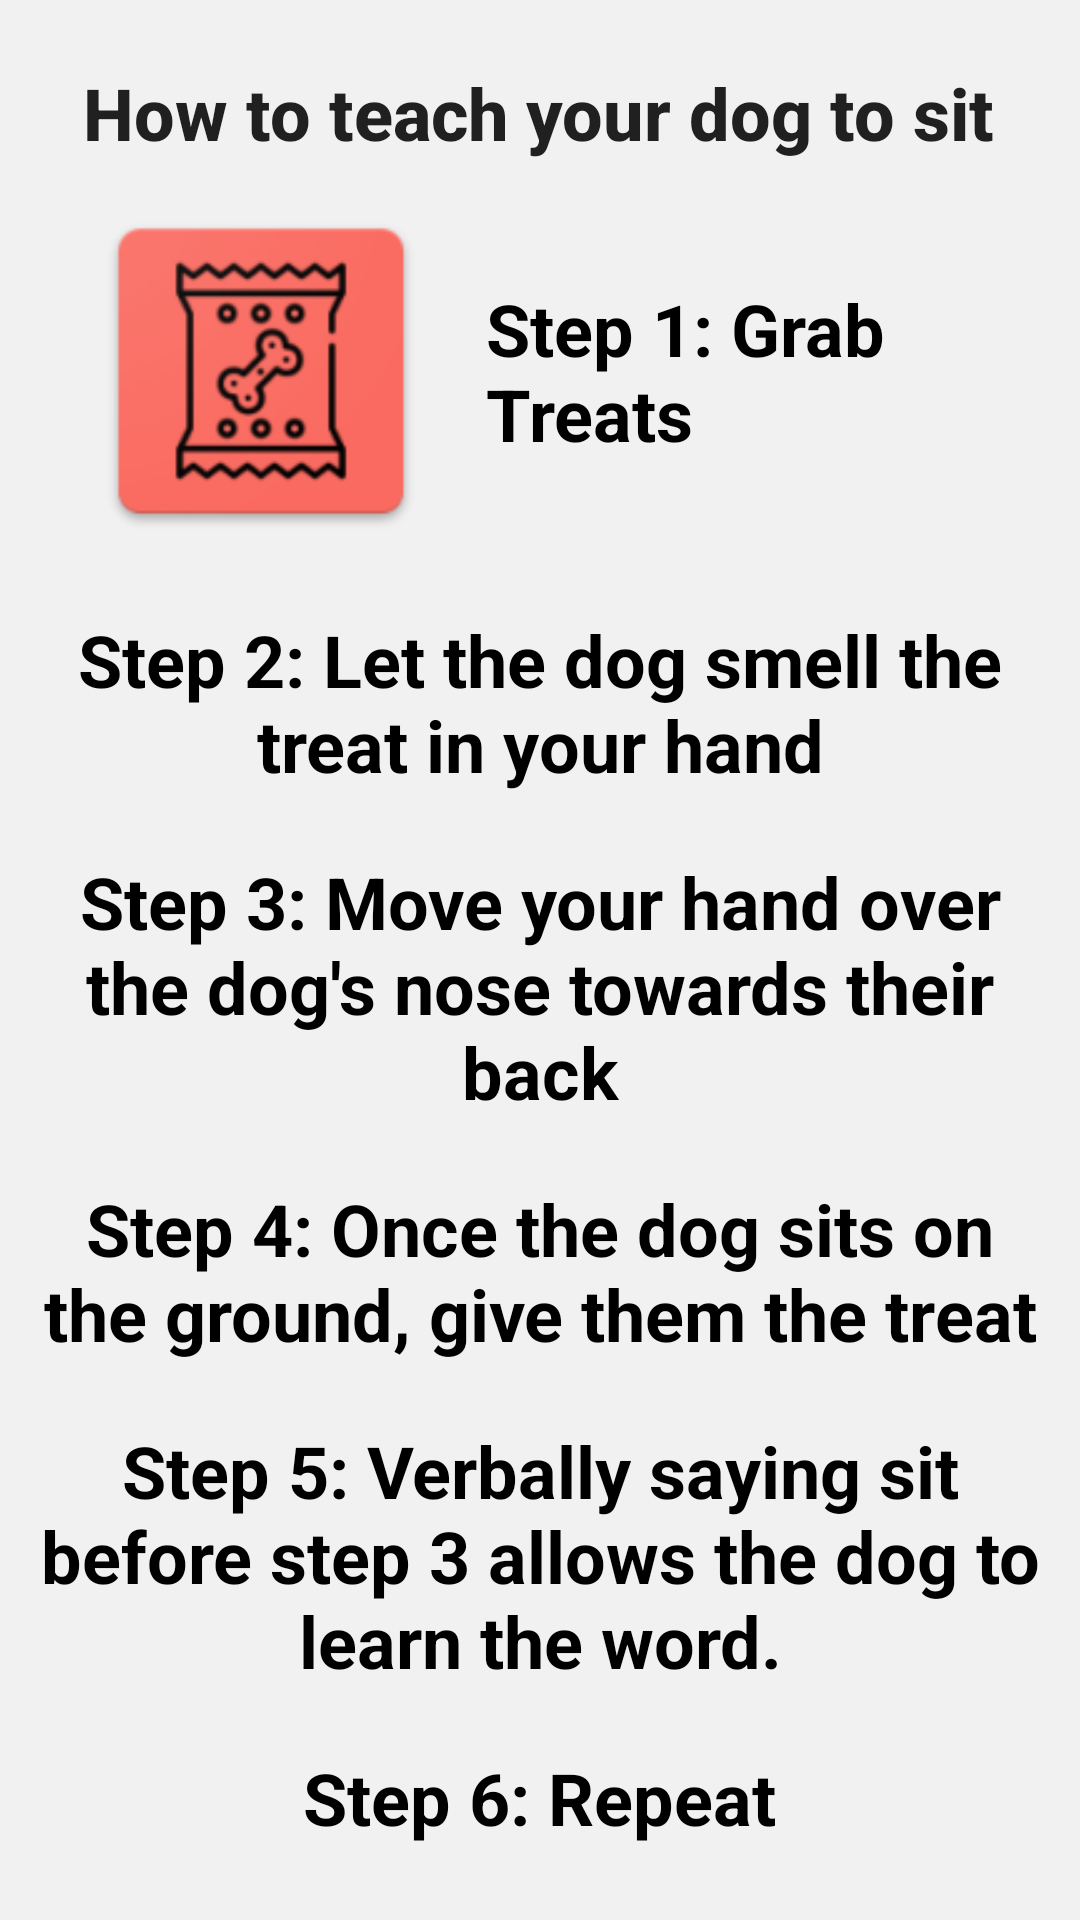

Named icons in this screenshot (1080 × 1920) and their bounding boxes, (x1, y1, x2, y2):
snack: (116, 228, 406, 521)
